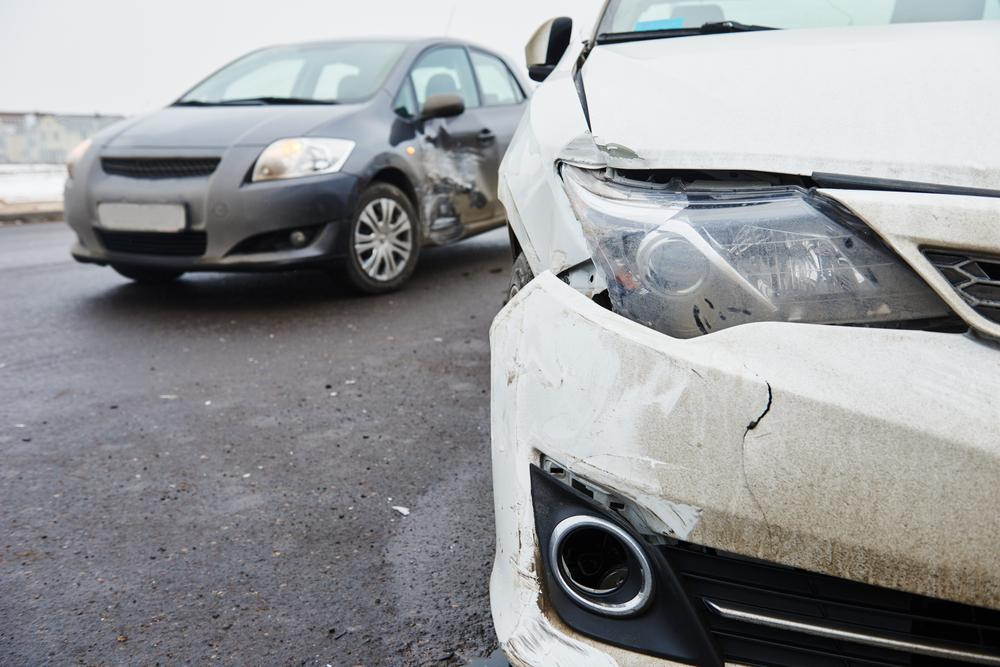crack: (740, 362, 774, 550)
dent: (424, 129, 490, 241), (554, 134, 606, 165)
lamp broken: (562, 163, 950, 335)
scratch: (501, 501, 599, 667)
